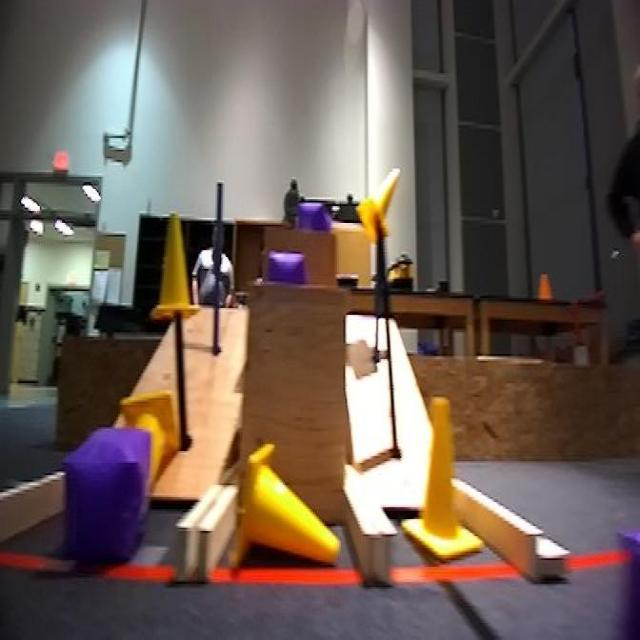frc_cone: (414, 380, 492, 577), (240, 441, 355, 567), (162, 219, 213, 332), (120, 390, 176, 480), (362, 153, 407, 242)
frc_cube: (57, 425, 144, 567), (290, 196, 326, 248), (268, 247, 302, 289)
